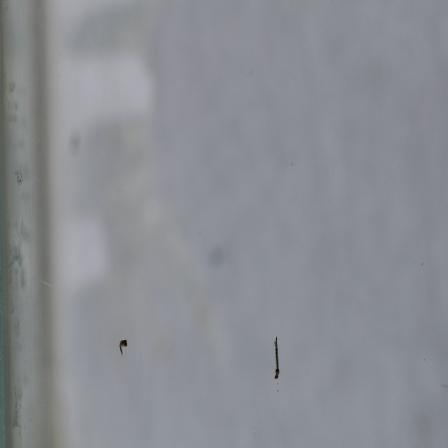Jentik-Nyamuk: (268, 333, 285, 383), (114, 336, 132, 359)
